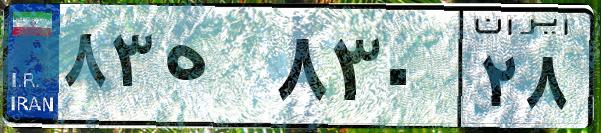0: (385, 28, 445, 110)
2: (475, 38, 525, 113)
3: (330, 28, 385, 110), (110, 28, 158, 98)
8: (270, 28, 330, 110), (57, 26, 110, 100), (525, 38, 570, 115)
ه: (158, 20, 270, 120)
